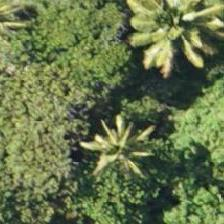coconut_tree: (78, 89, 168, 179), (81, 134, 171, 223), (136, 0, 223, 75), (126, 0, 216, 50)
